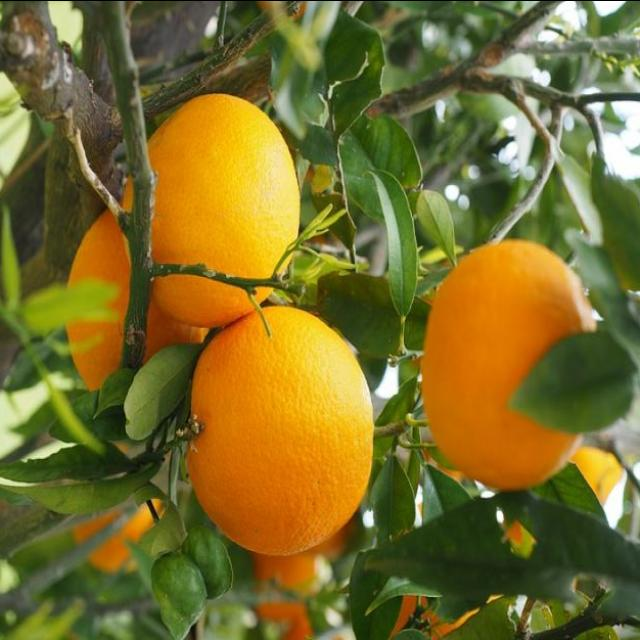orange: (175, 296, 373, 550), (119, 78, 300, 336), (412, 237, 590, 493), (68, 169, 222, 415)
